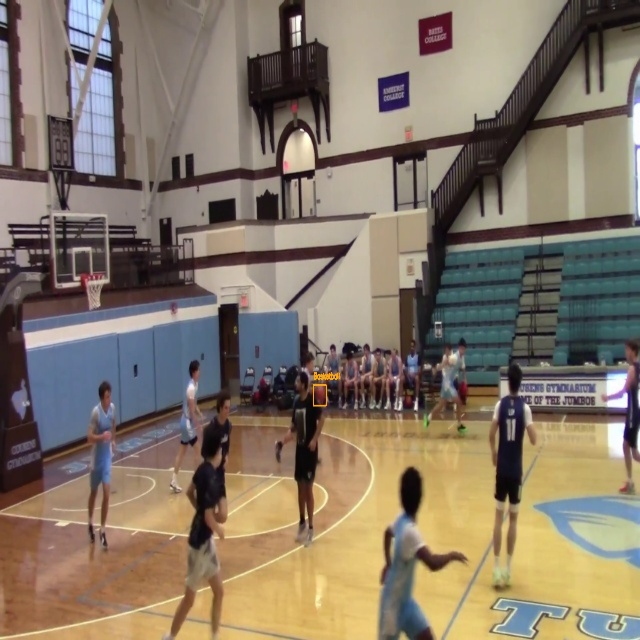Basketball: (314, 385, 326, 406)
